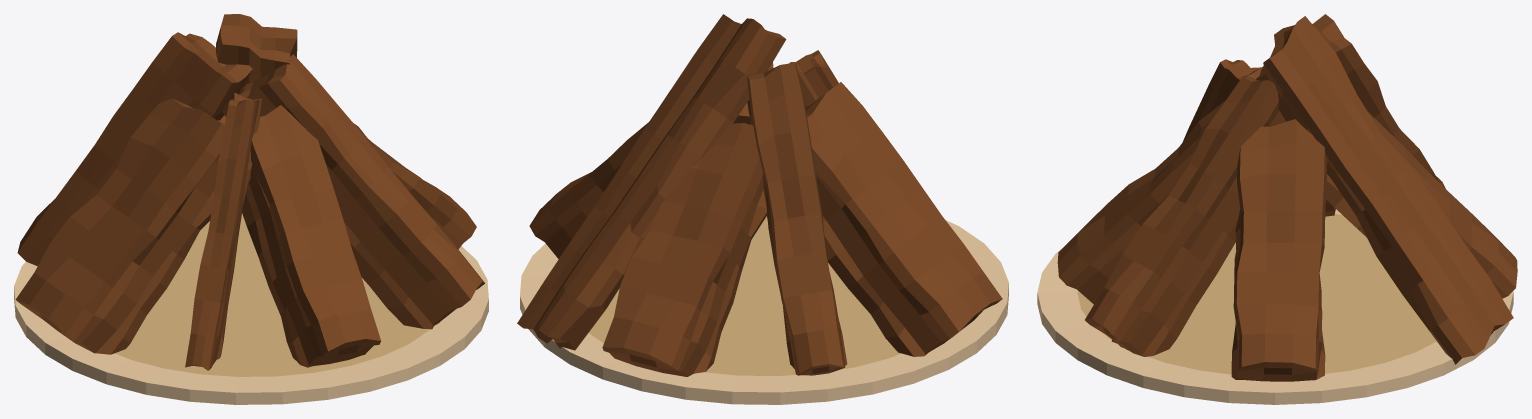
The model's file is Campfire.fbx.
3 renders of one model, left to right at view 1: azimuth 30°, elevation 25°; view 2: azimuth 150°, elevation 25°; view 3: azimuth 270°, elevation 25°, orthographic. The views are drawn at different scales.
Parts seen in each view (by area): view 1: Cube.001, Circle; view 2: Cube.001, Circle; view 3: Cube.001, Circle.
Boxes of the visible parts, x1,y1,x2,y2 form: Cube.001: (15,14,484,370); Circle: (14,213,488,404); Cube.001: (517,14,1002,376); Circle: (520,216,1008,404); Cube.001: (1057,14,1517,381); Circle: (1037,209,1513,404).
Bounding box in the file's own units: 113 × 74.12 × 111.
